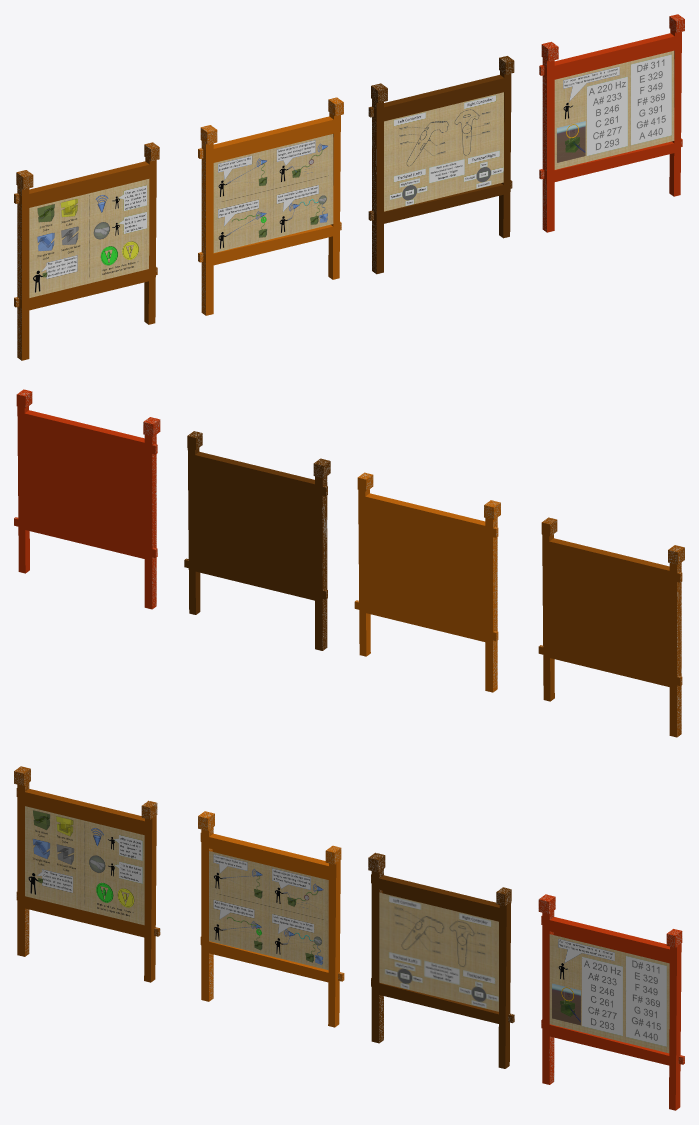
File: signs.dae
The picture shows the model from 3 angles, top to bottom: view 1: azimuth 30°, elevation 25°; view 2: azimuth 150°, elevation 25°; view 3: azimuth 330°, elevation 25°; orthographic projection.
Visible parts, largest first — view 1: Camp_Milton_Sign_2 (×6), Camp_Milton_Sign (×2), Camp_Milton_Sign_1 (×2), Camp_Milton_Sign_3 (×2); view 2: Camp_Milton_Sign_3 (×2), Camp_Milton_Sign (×2), Camp_Milton_Sign_1 (×2), Camp_Milton_Sign_2 (×2); view 3: Camp_Milton_Sign_2 (×6), Camp_Milton_Sign_3 (×2), Camp_Milton_Sign (×2), Camp_Milton_Sign_1 (×2).
Part boxes in pixels (left/top/right/bottom): Camp_Milton_Sign_2 (×6): left=14, top=50, right=674, bottom=360; Camp_Milton_Sign (×2): left=539, top=29, right=681, bottom=232; Camp_Milton_Sign_1 (×2): left=198, top=112, right=340, bottom=315; Camp_Milton_Sign_3 (×2): left=368, top=71, right=511, bottom=273; Camp_Milton_Sign_3 (×2): left=184, top=436, right=330, bottom=650; Camp_Milton_Sign (×2): left=14, top=394, right=160, bottom=609; Camp_Milton_Sign_1 (×2): left=354, top=477, right=500, bottom=692; Camp_Milton_Sign_2 (×2): left=538, top=522, right=684, bottom=737; Camp_Milton_Sign_2 (×6): left=14, top=766, right=669, bottom=1053; Camp_Milton_Sign_3 (×2): left=368, top=852, right=511, bottom=1068; Camp_Milton_Sign (×2): left=538, top=894, right=681, bottom=1110; Camp_Milton_Sign_1 (×2): left=198, top=811, right=340, bottom=1027.
Size of the model in its own units: 6.11 by 0.1092 by 1.62.
